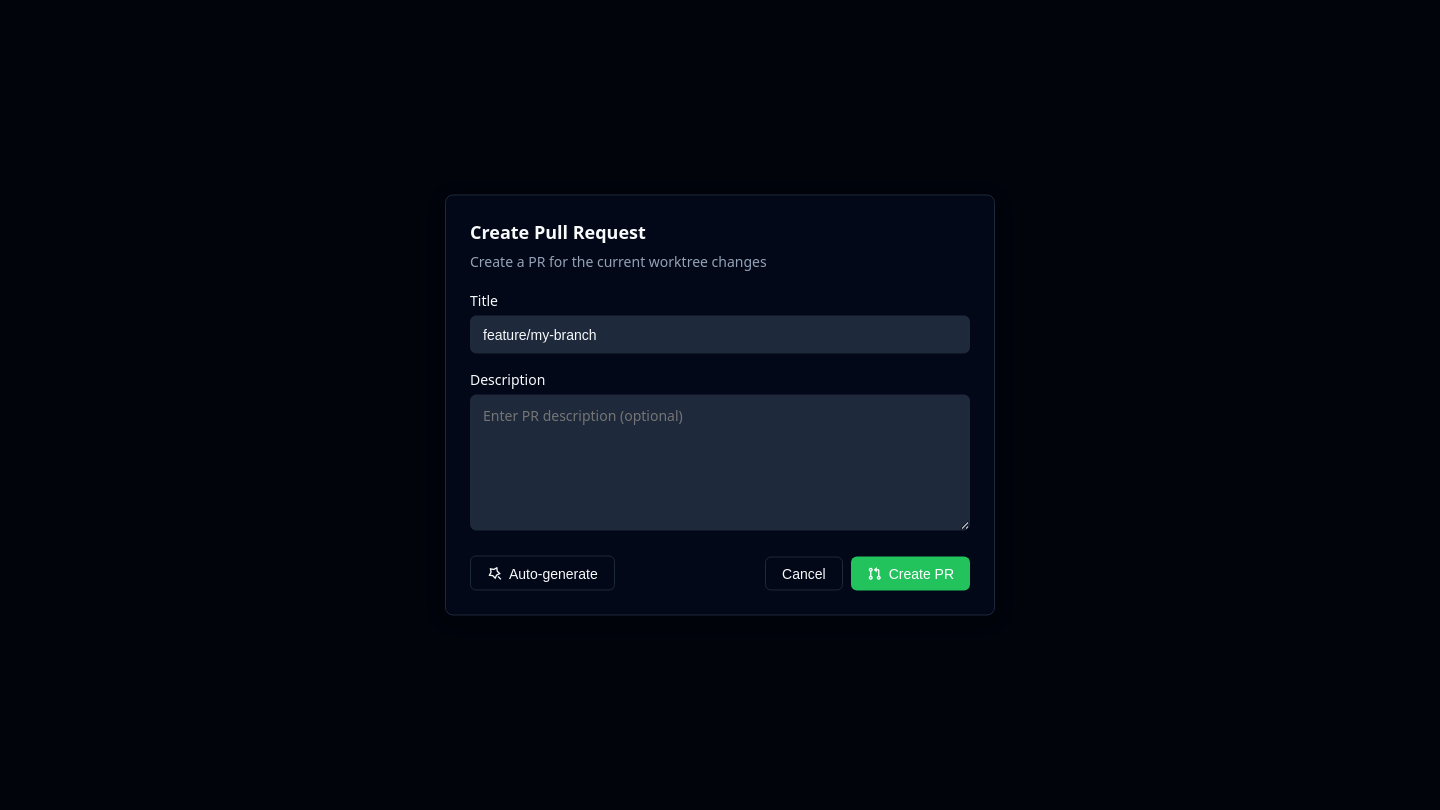
Test: CreatePRDialog › disables Create PR button when title is empty
Clear the field with placeholder "Enter PR title": {"x": 720, "y": 334} [470, 316, 970, 354]
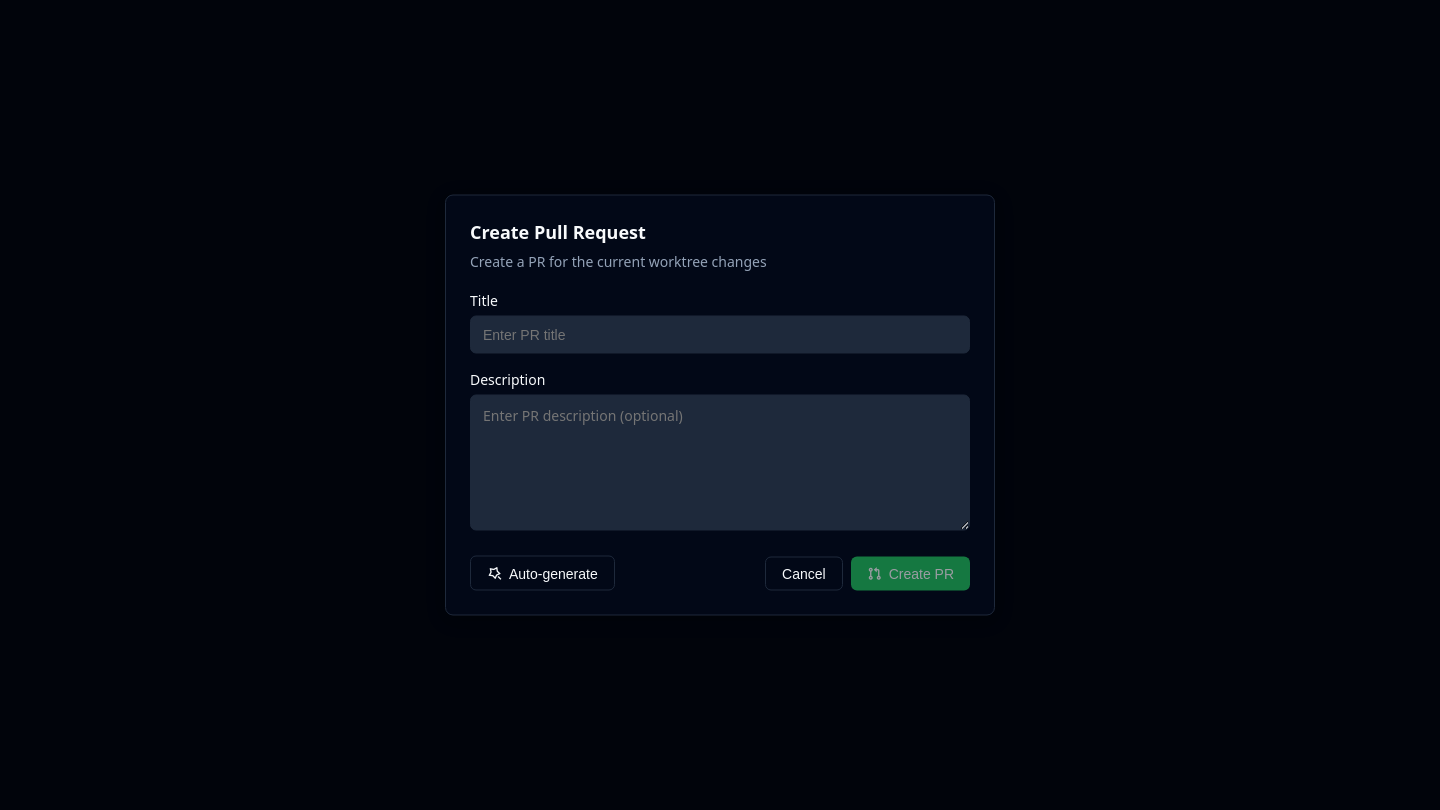
Expected: the button "Create PR" is disabled, [851, 556, 970, 590]
